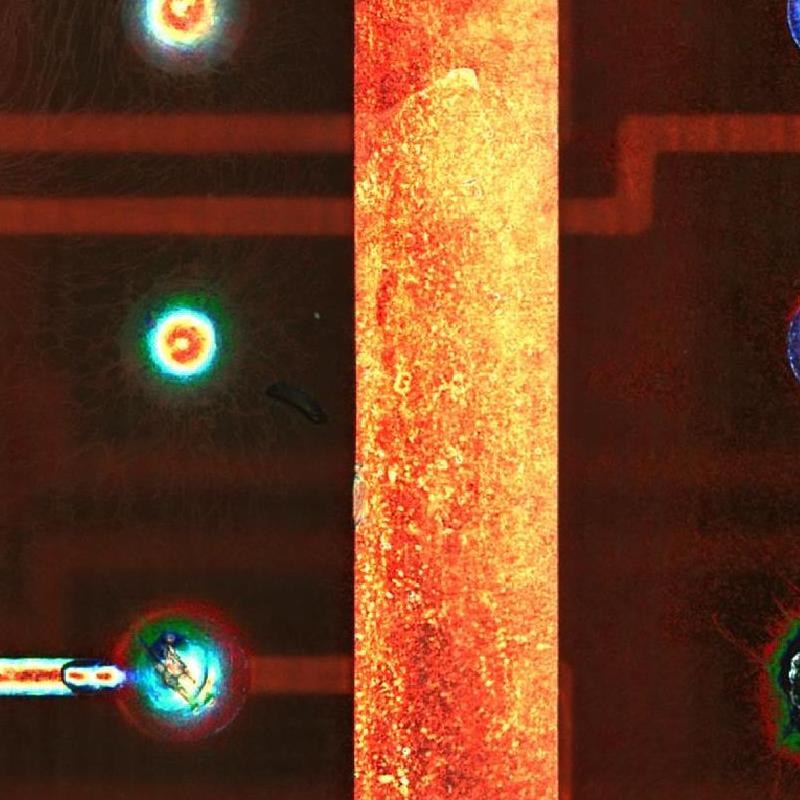bad: (120, 270, 253, 411), (101, 3, 261, 92)
